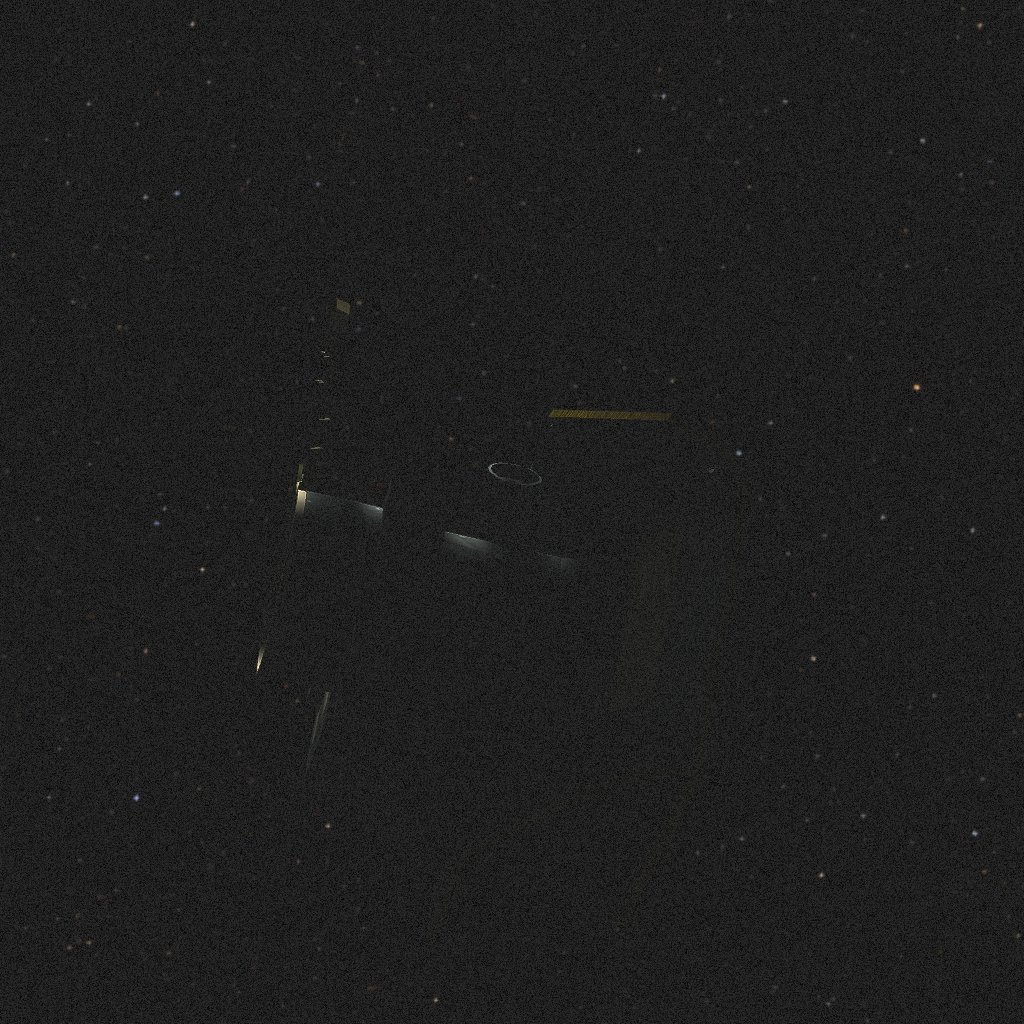cheops: (256, 298, 756, 956)
